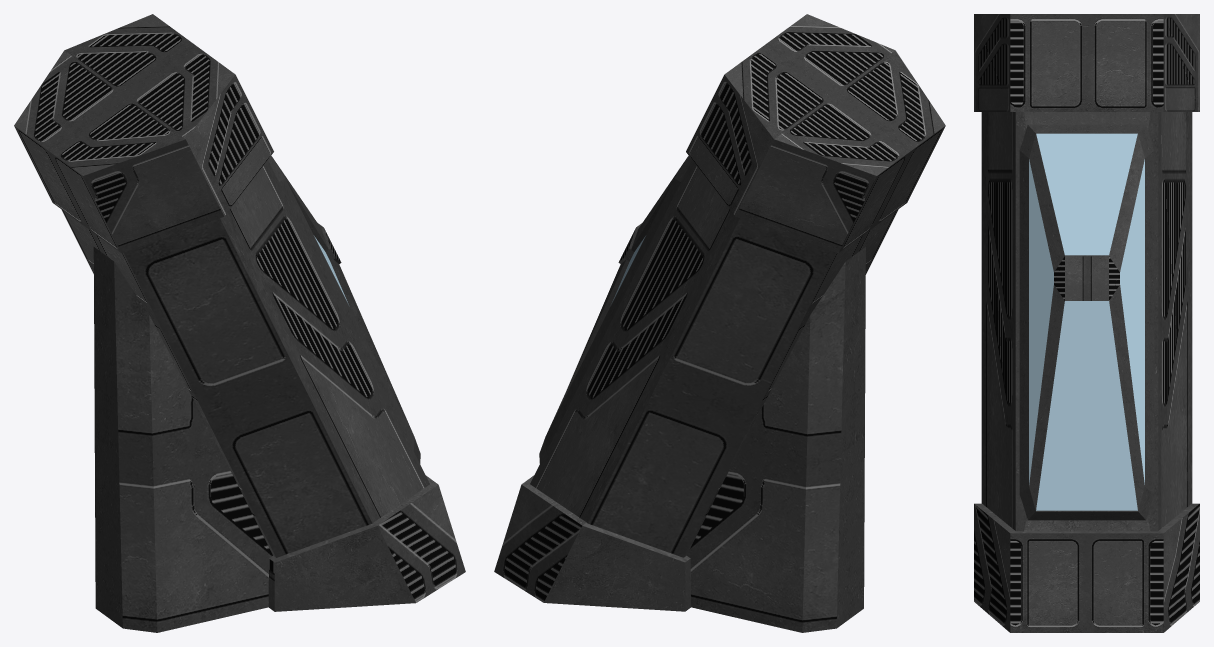
The model's file is sci-fi_stasis_pod.glb.
3 renders of one model, left to right at view 1: azimuth 30°, elevation 25°; view 2: azimuth 150°, elevation 25°; view 3: azimuth 270°, elevation 25°, orthographic. The views are drawn at different scales.
Parts seen in each view (by area): view 1: Cube.003, Cube.001; view 2: Cube.003, Cube.001; view 3: Cube.003, Cube.001.
Boxes of the visible parts, left/top/right/bottom form: Cube.003: left=14, top=14, right=465, bottom=632; Cube.001: left=268, top=156, right=420, bottom=463; Cube.003: left=494, top=14, right=945, bottom=632; Cube.001: left=539, top=156, right=691, bottom=463; Cube.003: left=974, top=14, right=1199, bottom=632; Cube.001: left=1019, top=124, right=1154, bottom=520.
Bounding box in the file's own units: 365 × 514 × 204.
Materials: 2 (1 with a texture image).
